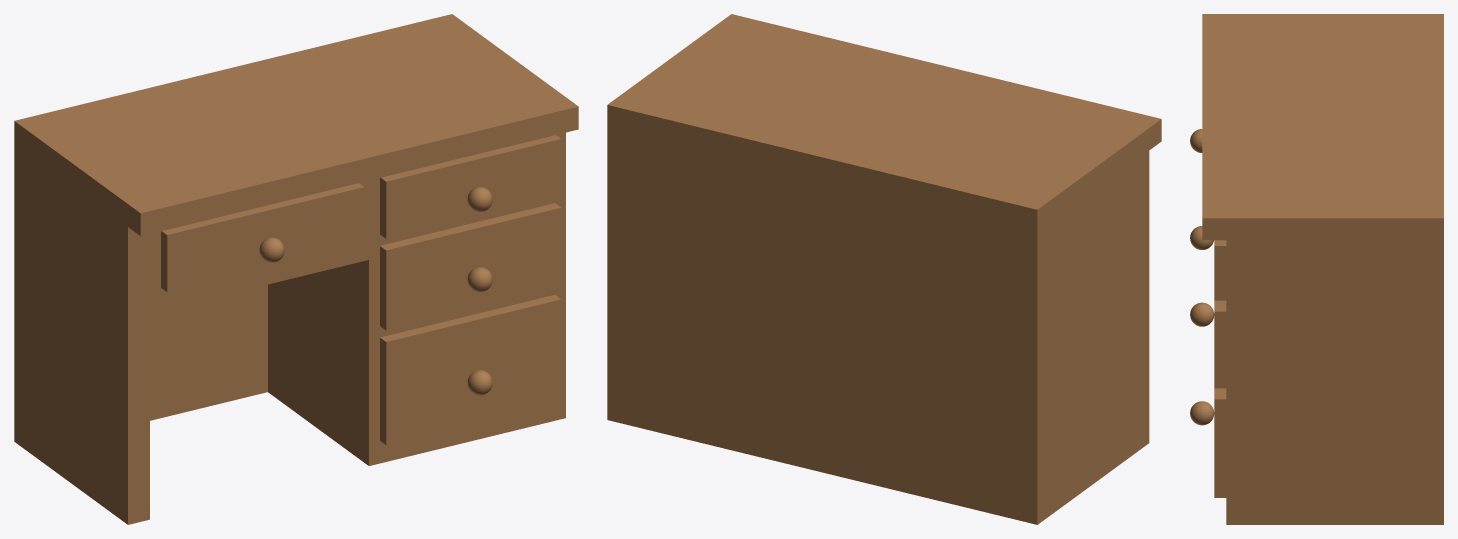
File: desk.fbx
3 renders of one model, left to right at view 1: azimuth 30°, elevation 25°; view 2: azimuth 150°, elevation 25°; view 3: azimuth 270°, elevation 25°, orthographic. The views are drawn at different scales.
Parts seen in each view (by area): view 1: g group_0_11107152, g group_4_11107152, g group_3_11107152, g group_1_11107152, g group_2_11107152; view 2: g group_0_11107152; view 3: g group_0_11107152, g group_4_11107152, g group_3_11107152, g group_2_11107152.
Boxes of the visible parts, left/top/right/bottom form: g group_0_11107152: left=14, top=14, right=578, bottom=524; g group_4_11107152: left=380, top=295, right=561, bottom=445; g group_3_11107152: left=380, top=203, right=561, bottom=330; g group_1_11107152: left=161, top=183, right=364, bottom=292; g group_2_11107152: left=380, top=135, right=561, bottom=238; g group_0_11107152: left=607, top=14, right=1161, bottom=524; g group_0_11107152: left=1202, top=14, right=1443, bottom=524; g group_4_11107152: left=1190, top=388, right=1226, bottom=497; g group_3_11107152: left=1190, top=300, right=1226, bottom=388; g group_2_11107152: left=1190, top=226, right=1226, bottom=300.
Bounding box in the file's own units: 20 × 14 × 10.5.
